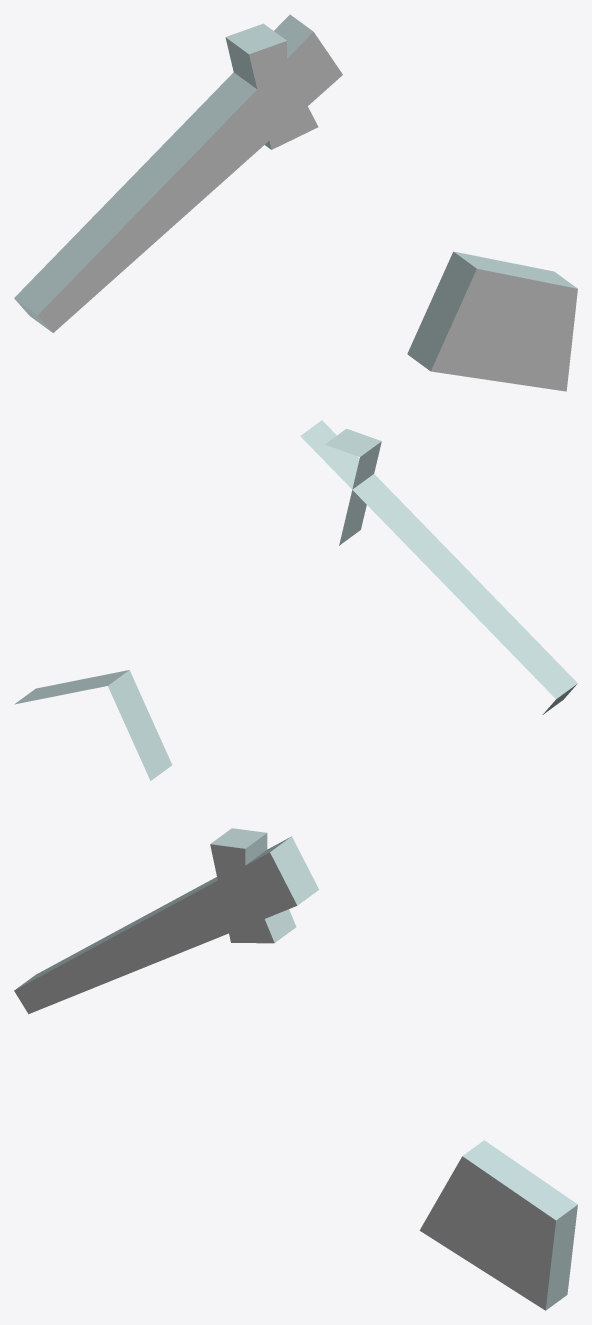
The picture shows the model from 3 angles, top to bottom: view 1: azimuth 30°, elevation 25°; view 2: azimuth 150°, elevation 25°; view 3: azimuth 330°, elevation 25°; orthographic projection. The views are drawn at different scales.
Parts seen in each view (by area): view 1: 0_0_2_3_2_2_3_1_2; view 2: 0_0_2_3_2_2_3_1_2; view 3: 0_0_2_3_2_2_3_1_2.
Boxes of the visible parts, box(x1,y1,x2,y2) form: 0_0_2_3_2_2_3_1_2: box(14, 14, 577, 391); 0_0_2_3_2_2_3_1_2: box(14, 420, 577, 780); 0_0_2_3_2_2_3_1_2: box(14, 828, 577, 1310).
Size of the model in its own units: 41.29 by 31.1 by 5.8.
